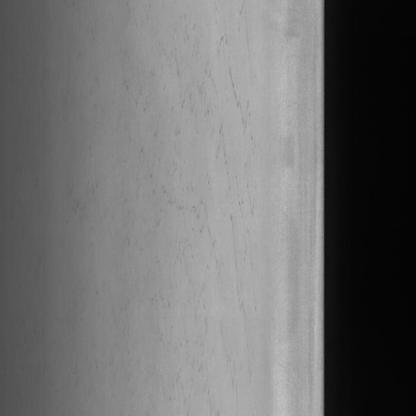silk_spot: (127, 19, 263, 364)
